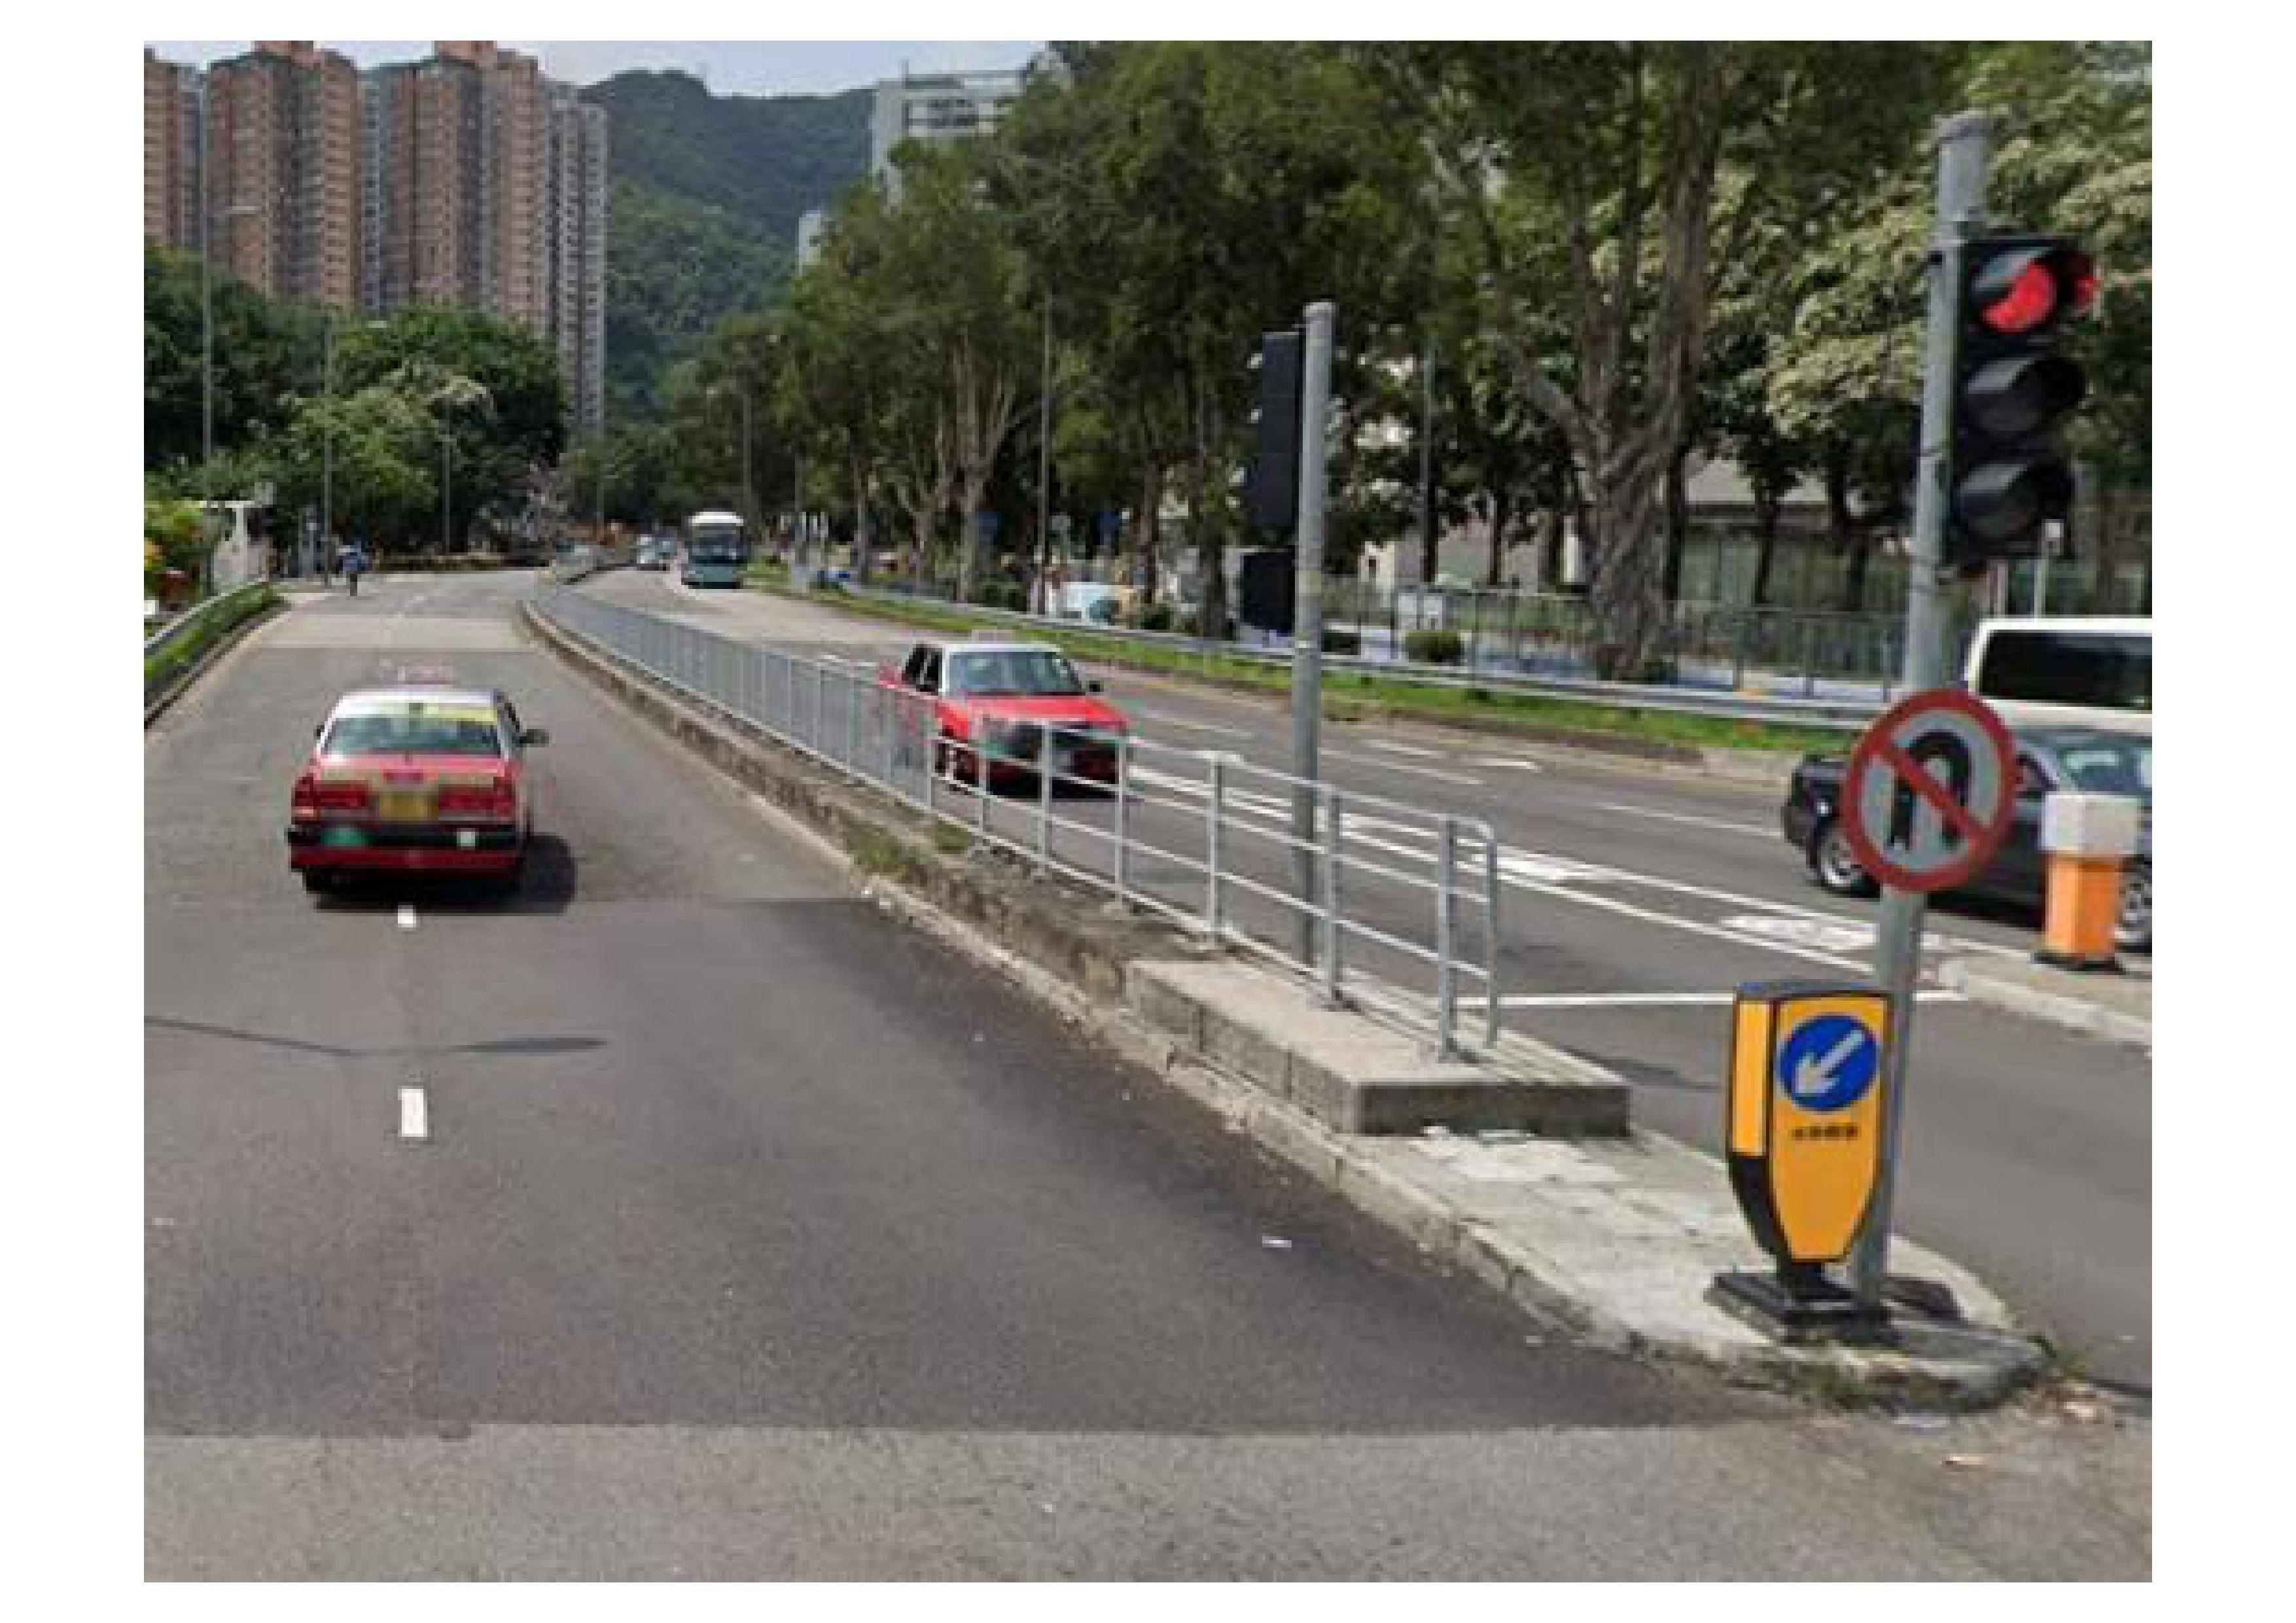No Uturn: (1841, 689, 2005, 884)
